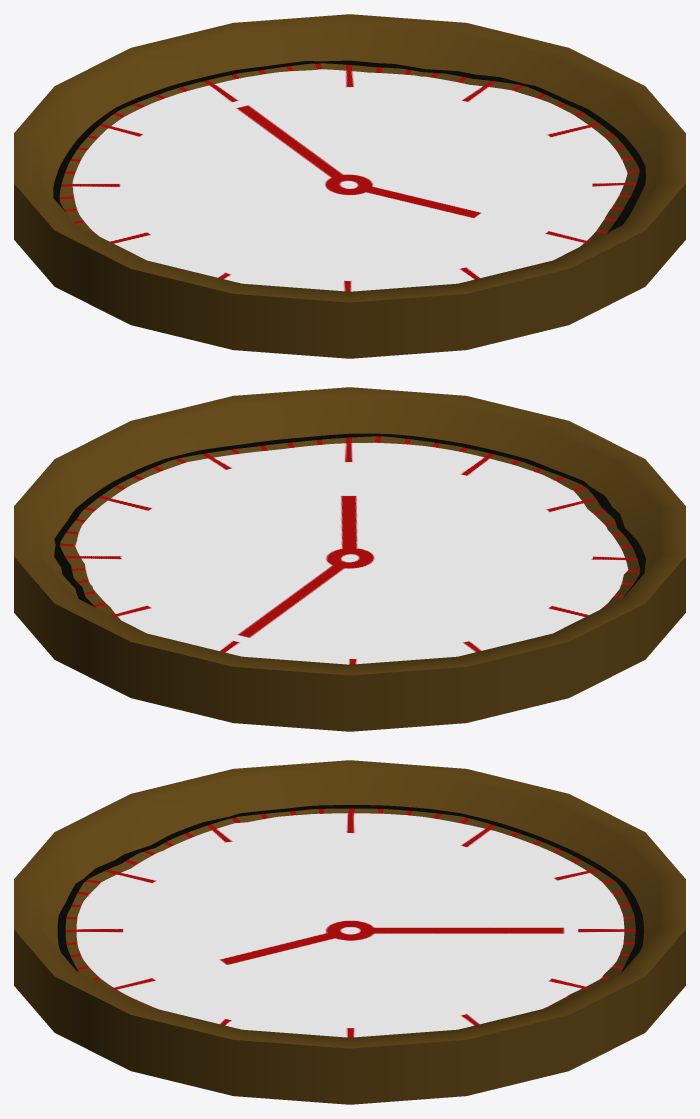
File: Time.FBX
3 views of the same model, one above another, from view 1: azimuth 30°, elevation 25°; view 2: azimuth 150°, elevation 25°; view 3: azimuth 270°, elevation 25° (orthographic).
Visible parts, largest first — view 1: Box001, Cylinder001; view 2: Box001, Cylinder001; view 3: Box001, Cylinder001.
Boxes of the visible parts, x1,y1,x2,y2 form: Box001: (53,60,645,291); Cylinder001: (14,14,685,358); Box001: (54,433,645,664); Cylinder001: (14,387,685,731); Box001: (57,805,643,1037); Cylinder001: (14,760,685,1104).
Bounding box in the file's own units: 65.71 × 5.98 × 64.71.
Materials: 2 (2 with a texture image).
